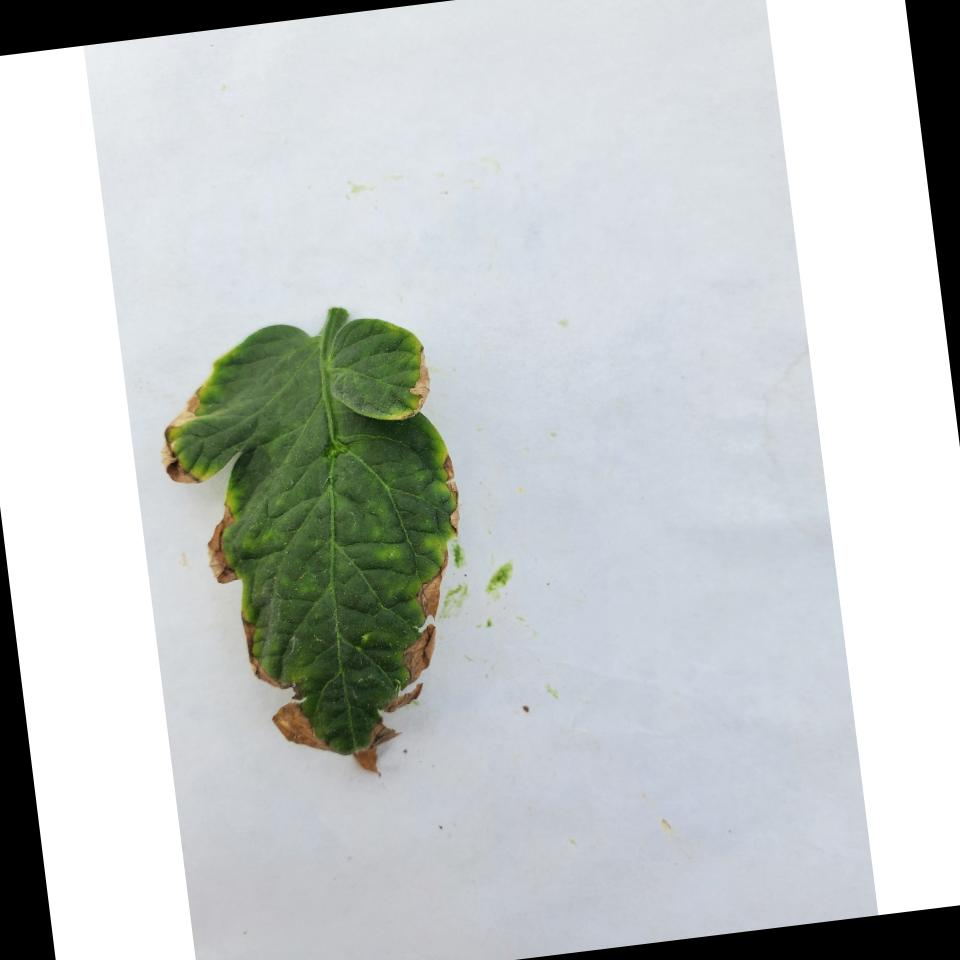tomato_bacterial_blight: (159, 297, 496, 786)
